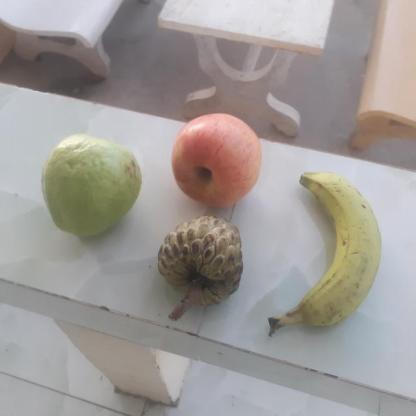annona: (152, 216, 242, 310)
apple: (168, 110, 265, 207)
banana: (282, 172, 378, 330)
guava: (41, 131, 143, 236)
